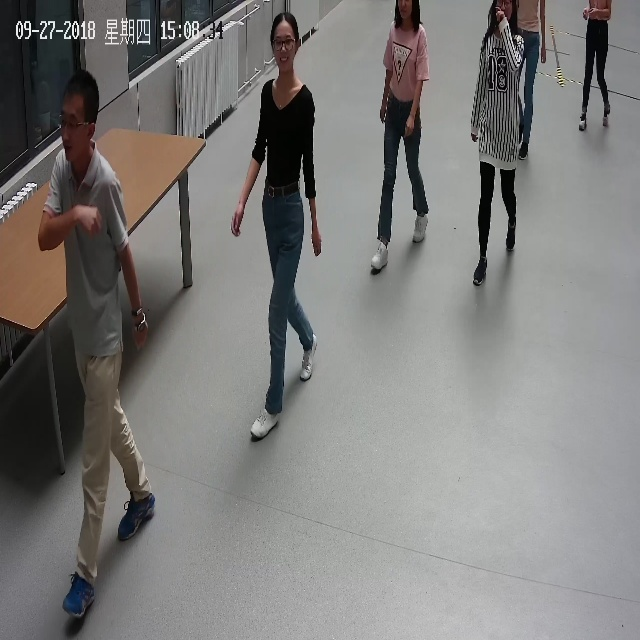head: (55, 66, 105, 167), (268, 10, 304, 76), (489, 0, 521, 40), (391, 0, 425, 30)
